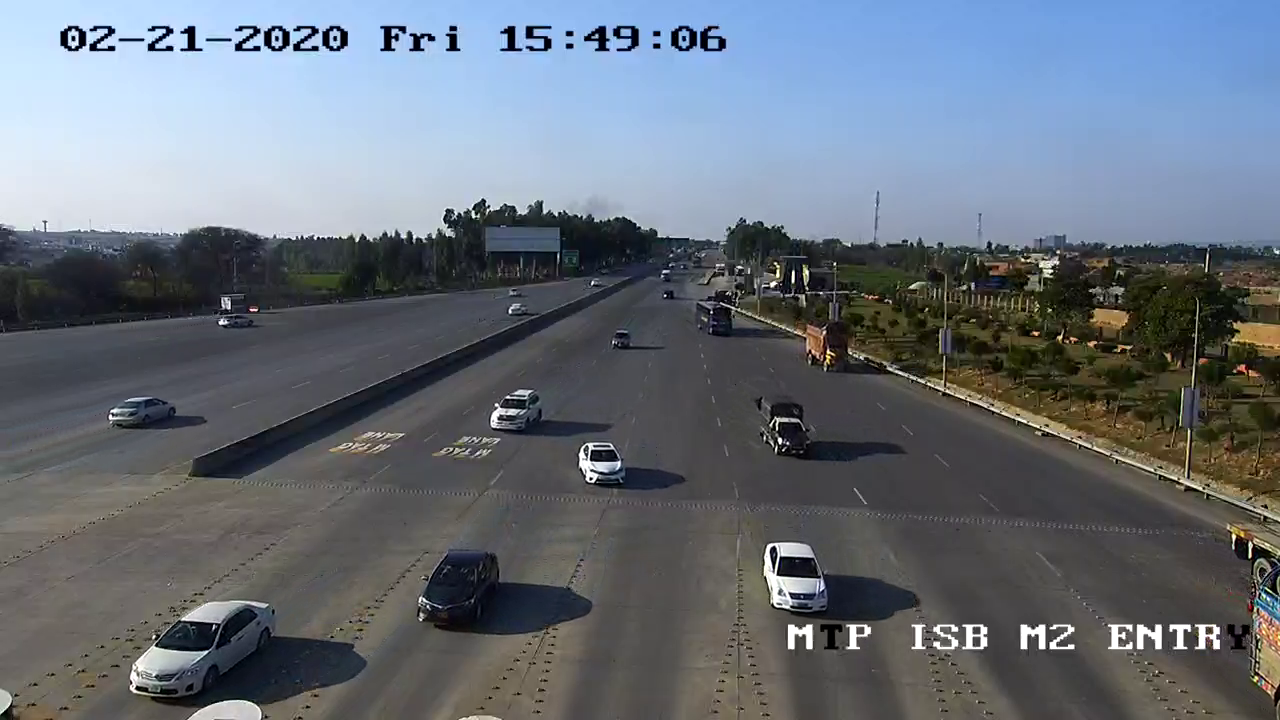f1: (114, 596, 279, 708), (408, 541, 506, 641), (751, 532, 834, 621), (480, 380, 551, 443), (571, 435, 632, 495)
f2: (749, 388, 826, 463)
